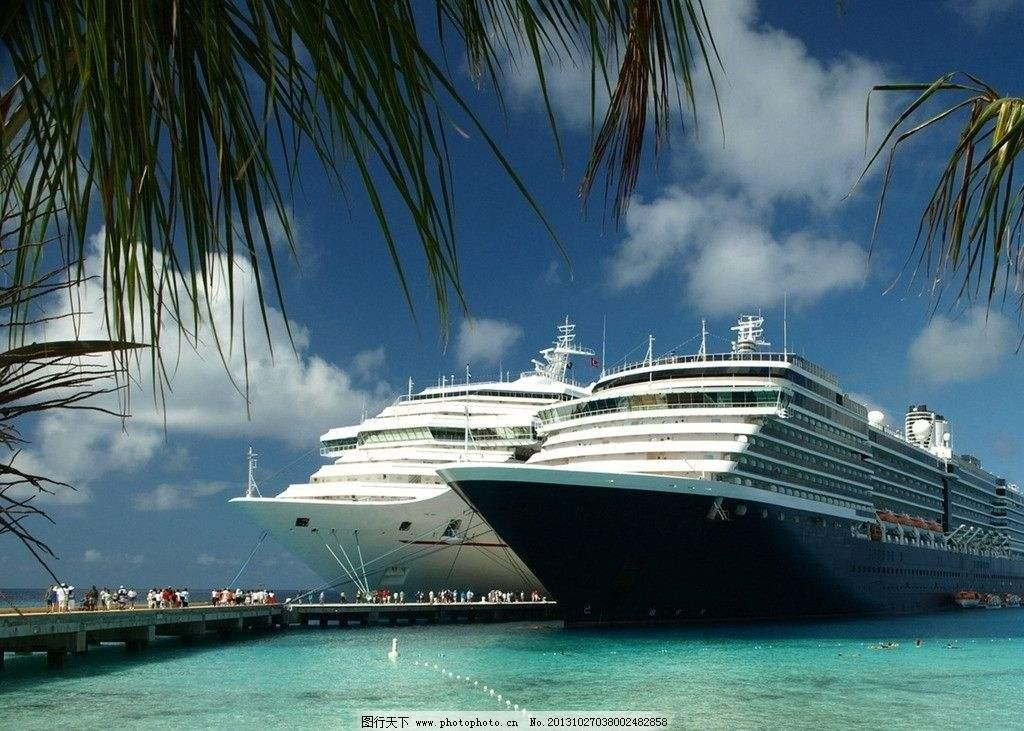youlun: (445, 326, 1024, 624), (223, 323, 637, 595)
